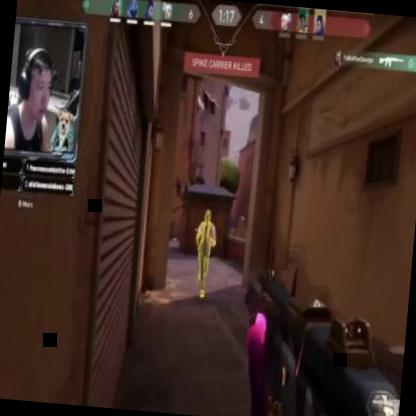enemy: (190, 209, 218, 300)
enemy_head: (204, 209, 212, 224)
